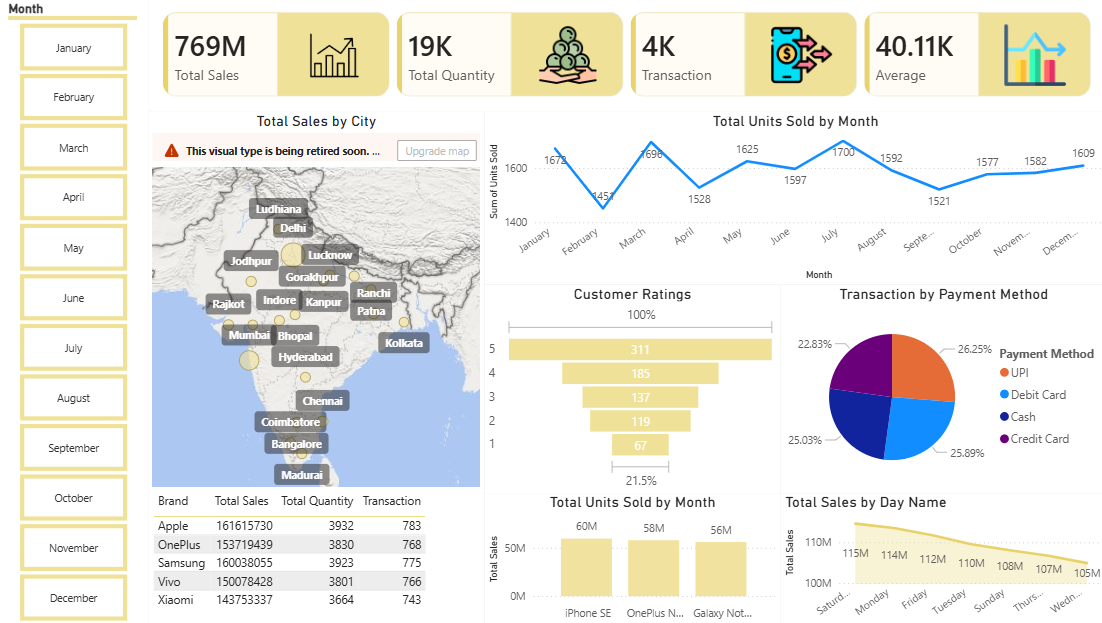

The page's visual inventory and layout, read from the dashboard file:
{"tool":"powerbi","page":{"name":"Sales Overview Dashboard","canvas":[1280,720],"ordinal":0},"visuals":[{"type":"slicer","fields":{"Values":["Sales Data.Date.Variation.Date Hierarchy.Month"]},"box":[0,0,172.9,720],"z":0},{"type":"cardVisual","fields":{"Data":["Sales Data.Total Sales","Sales Data.Total Quantity","Sales Data.Transaction","Sales Data.Average"]},"box":[172.9,0,1095.7,131.4],"z":1000},{"type":"map","fields":{"Category":["Sales Data.City"],"Size":["Sales Data.Total Sales"]},"box":[172.9,131.4,384.3,428.6],"z":2000},{"type":"lineChart","title":" Total Units Sold by Month","fields":{"Y":["Sum(Sales Data.Units Sold)"],"Category":["Sales Data.Date.Variation.Date Hierarchy.Month"]},"box":[557.1,131.4,711.4,197.1],"z":3000},{"type":"clusteredColumnChart","title":" Total Units Sold by Month","fields":{"Category":["Sales Data.Mobile Model"],"Y":["Sales Data.Total Sales"]},"box":[557.1,566.7,338.9,153.7],"z":4000},{"type":"pieChart","title":"Transaction by Payment Method","fields":{"Category":["Sales Data.Payment Method"],"Y":["Sales Data.Transaction"]},"box":[895.7,328.6,372.9,238.6],"z":5000},{"type":"funnel","title":"Customer Ratings","fields":{"Category":["Sales Data.Customer Ratings"],"Y":["CountNonNull(Sales Data.Customer Ratings)"]},"box":[557.1,328.6,338.6,238.6],"z":6000},{"type":"stackedAreaChart","fields":{"Category":["Sales Data.Day Name"],"Y":["Sales Data.Total Sales"]},"box":[895.7,567.1,372.9,152.9],"z":7000},{"type":"tableEx","fields":{"Values":["Sales Data.Brand","Sales Data.Total Sales","Sales Data.Total Quantity","Sales Data.Transaction"]},"box":[172.9,560,384.3,160],"z":8000}]}

Visuals, with their boxes in screenshot pixels (x1, y1, x2, y2), scaled from the page's 1280x720 canvas onto the 1102x623 screenshot:
slicer - Sales Data.Date.Variation.Date Hierarchy.Month: locate(0, 0, 149, 622)
cardVisual - Sales Data.Total Sales x Sales Data.Total Quantity: locate(149, 0, 1092, 114)
map - Sales Data.City x Sales Data.Total Sales: locate(149, 114, 480, 485)
" Total Units Sold by Month" lineChart: locate(480, 114, 1092, 284)
" Total Units Sold by Month" clusteredColumnChart: locate(480, 490, 771, 622)
"Transaction by Payment Method" pieChart: locate(771, 284, 1092, 491)
"Customer Ratings" funnel: locate(480, 284, 771, 491)
stackedAreaChart - Sales Data.Day Name x Sales Data.Total Sales: locate(771, 491, 1092, 622)
tableEx - Sales Data.Brand x Sales Data.Total Sales: locate(149, 485, 480, 622)
